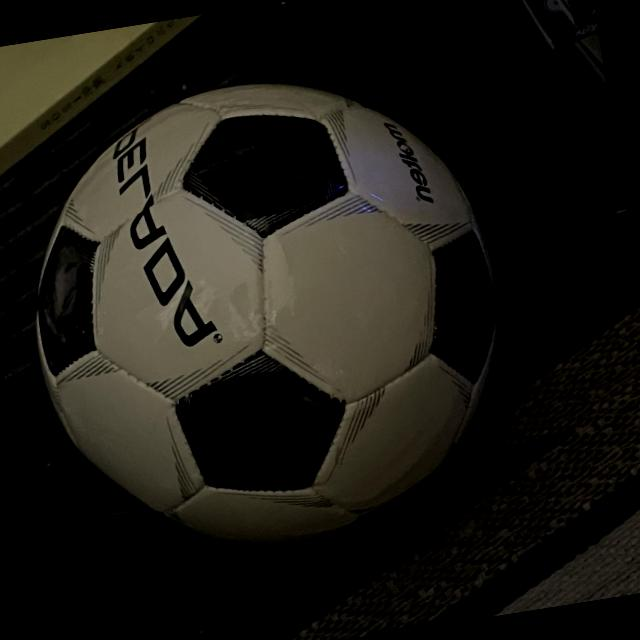Soccer Ball: (2, 48, 534, 584)
